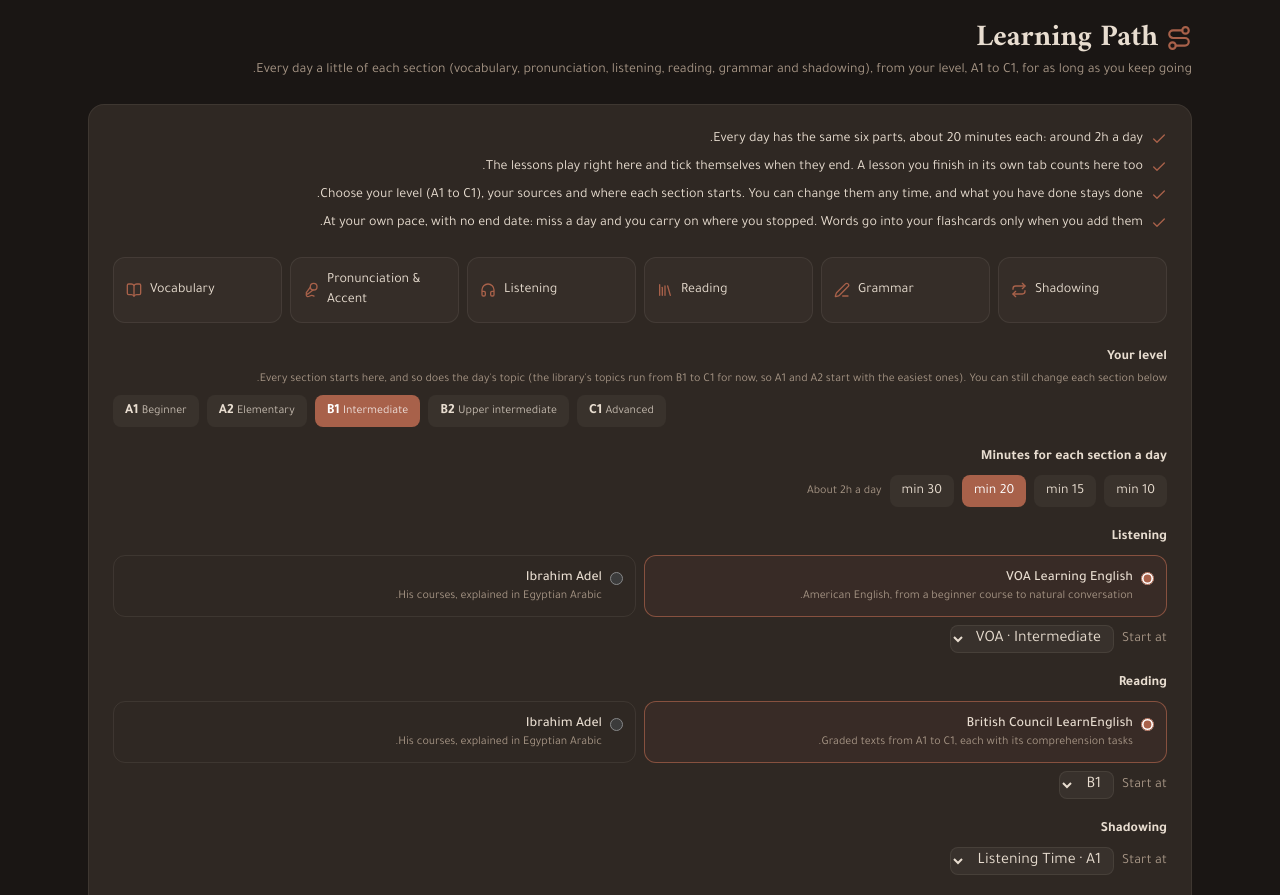
it: LearningPathSection › chooses the sources before starting
Click the radio button labelled "Ibrahim Adel His courses, explained in Egyptian Arabic." in the row of "VOA Learning English".
click(616, 578)  # box [610,572,623,585]
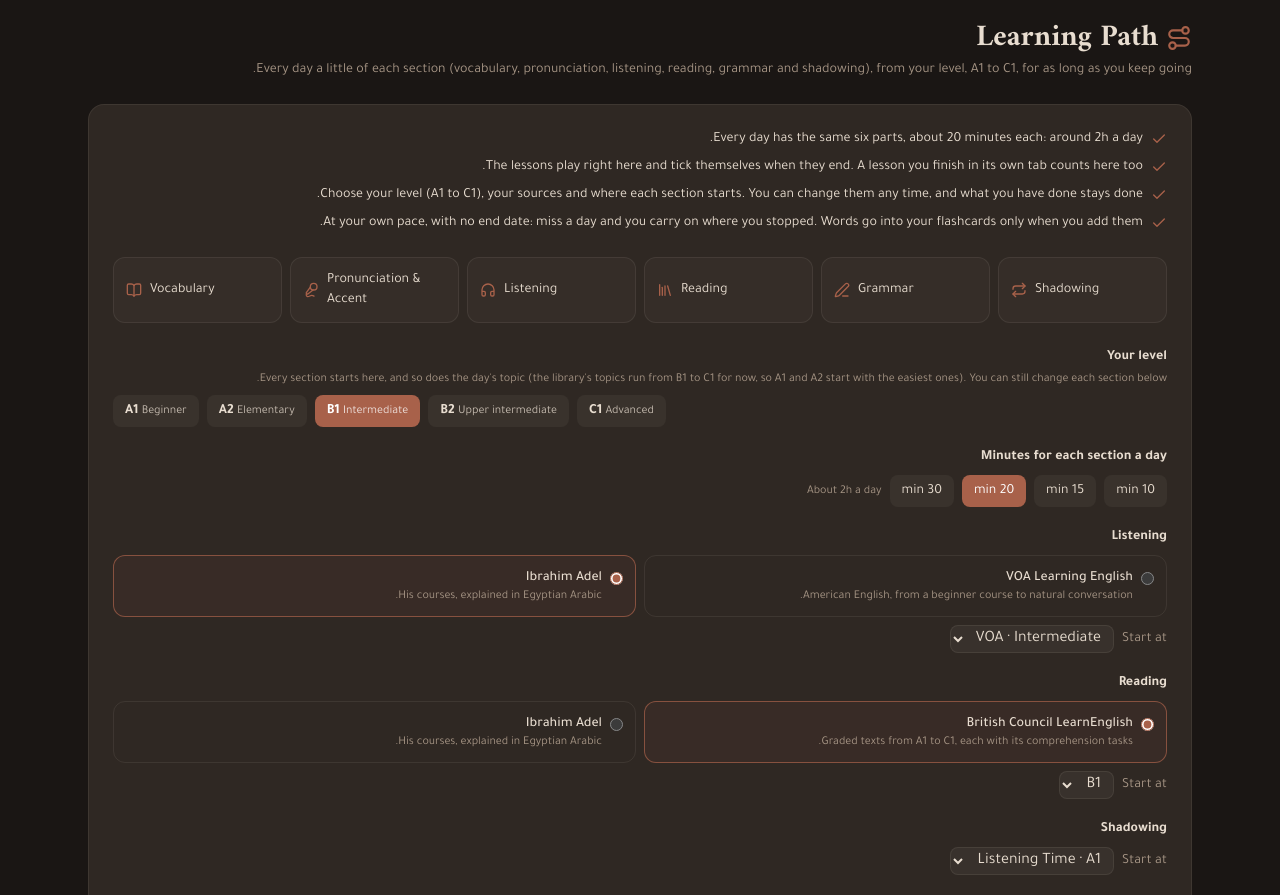
Select "Listening Time · A2" in the dropdown named "Shadowing starts at" at [1032, 861], box [950,847,1114,875]
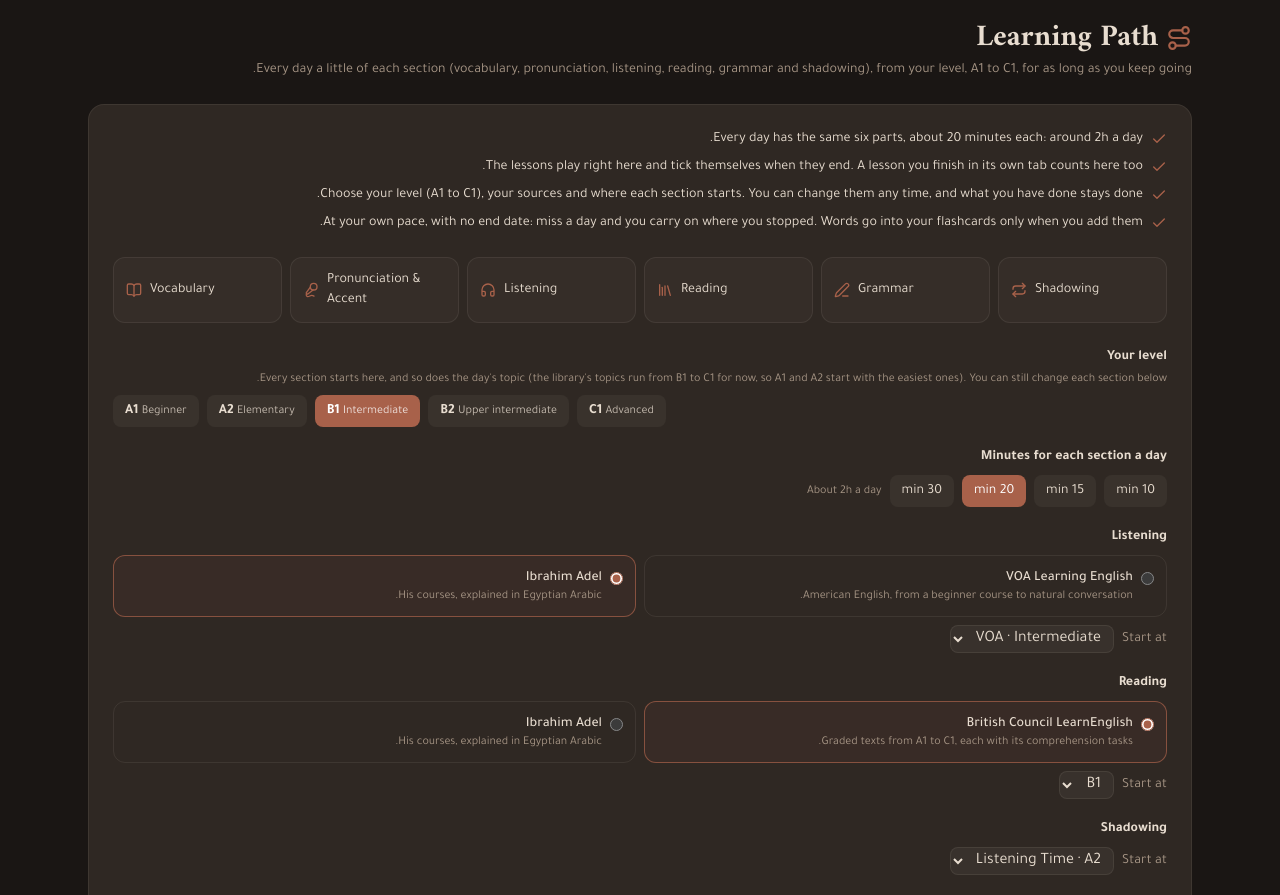
Click the button "30 min".
click(922, 491)  # box [890,475,954,507]
(page scrolled)
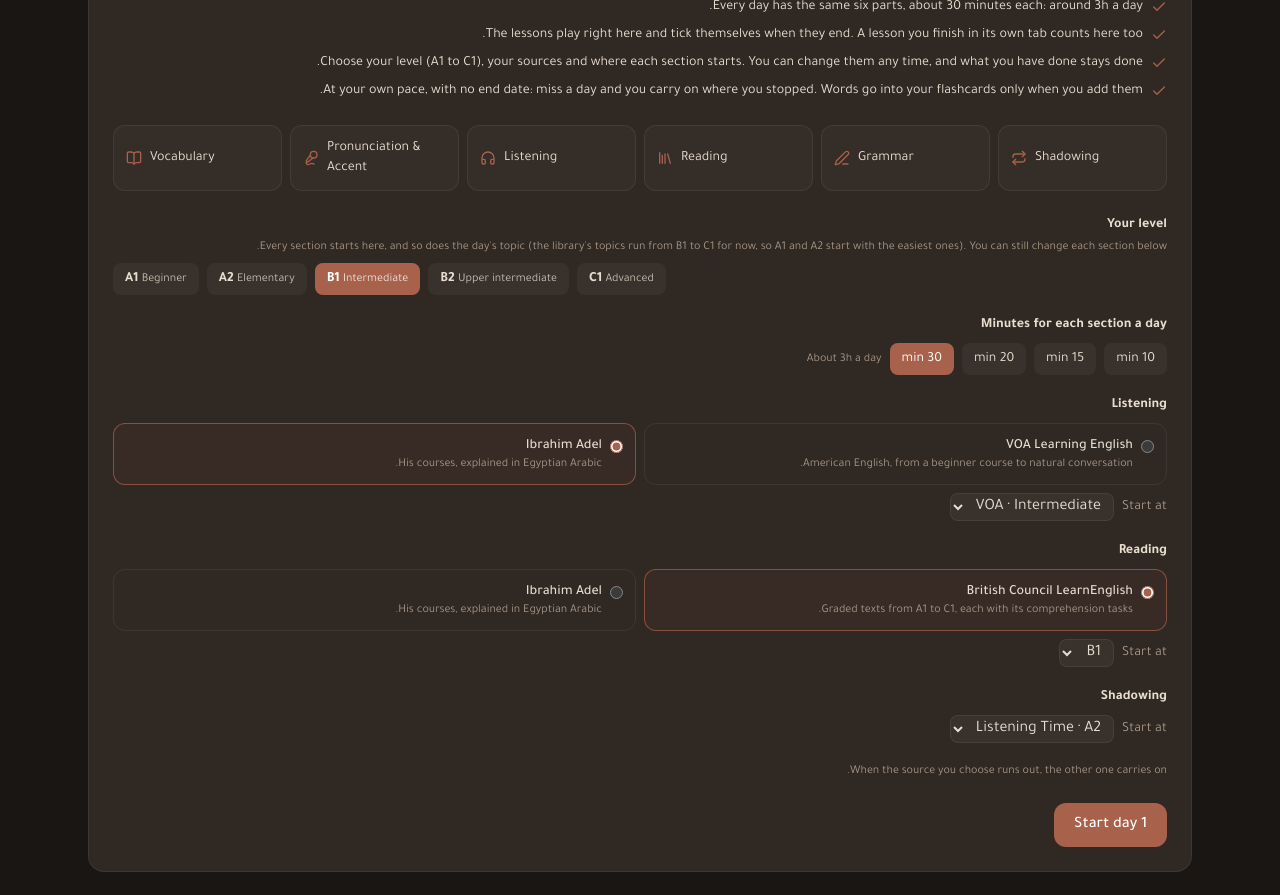
Click the button "Start day 1".
click(1110, 825)  # box [1054,803,1167,847]
(page scrolled)
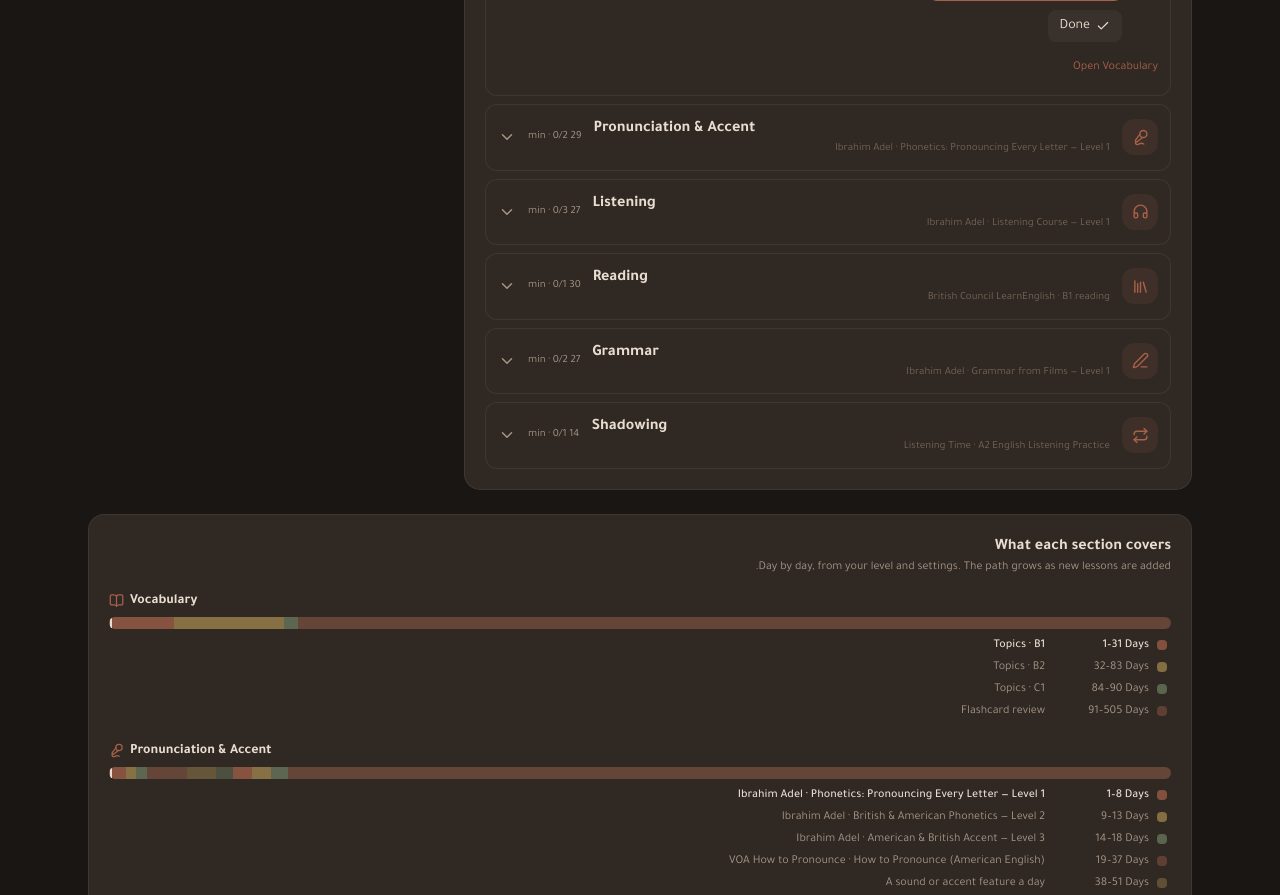
Now the text "Ibrahim Adel · Listening Course — Level 1" is shown, box [927,218,1110,228]
Now the text "Listening Time · A2 English Listening Practice" is shown, box [904,441,1110,452]
